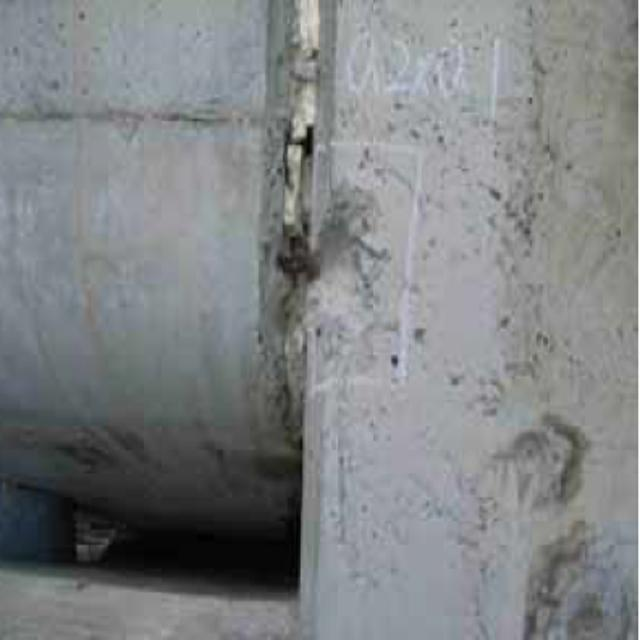spalling: (253, 171, 420, 400), (510, 427, 631, 640)
